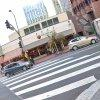crosswalks: (1, 55, 99, 100)
